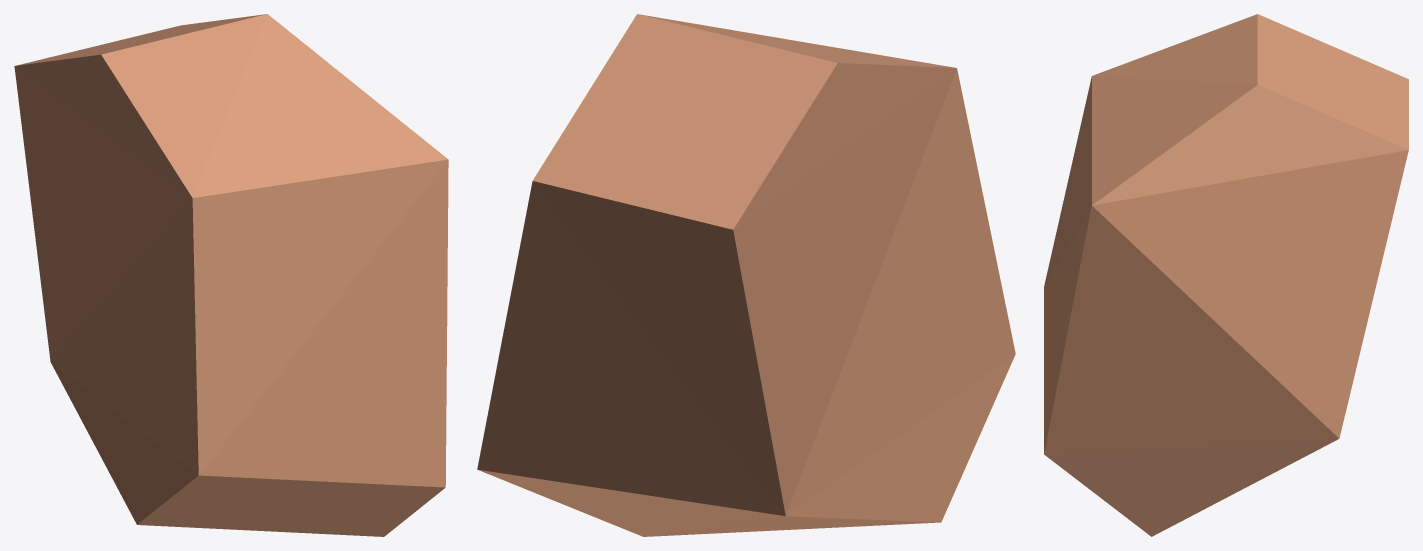
File: left_hand.dae
3 views of the same model, side by side, from view 1: azimuth 30°, elevation 25°; view 2: azimuth 150°, elevation 25°; view 3: azimuth 270°, elevation 25° (orthographic). The views are drawn at different scales.
Visible parts, largest first — view 1: left_hand; view 2: left_hand; view 3: left_hand.
Part boxes in pixels (<box>): left_hand: <box>14,14,448,536</box>; left_hand: <box>477,14,1015,536</box>; left_hand: <box>1044,14,1408,536</box>.
Bounding box in the file's own units: 0.0876 × 0.1145 × 0.1485.
